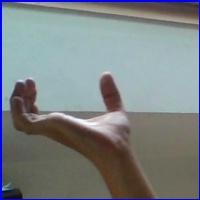B: (5, 64, 146, 178)
